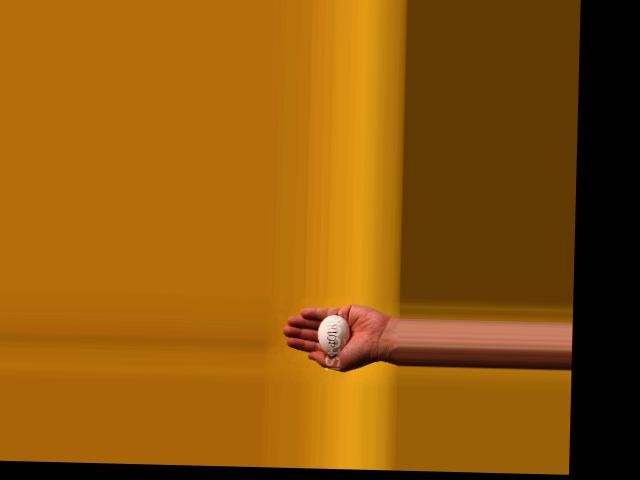egg: (317, 314, 349, 356)
